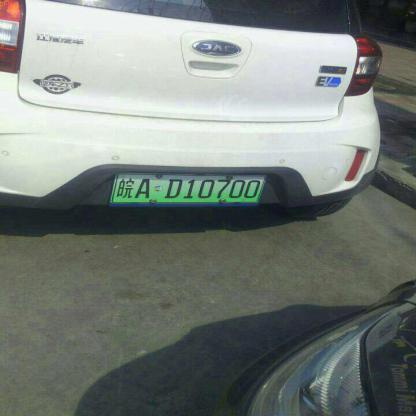lp: (112, 174, 264, 202)
